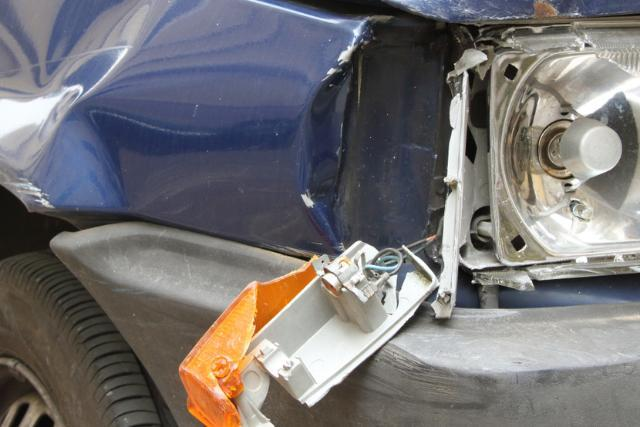Fender: (0, 7, 339, 220)
Light: (359, 23, 640, 302)
